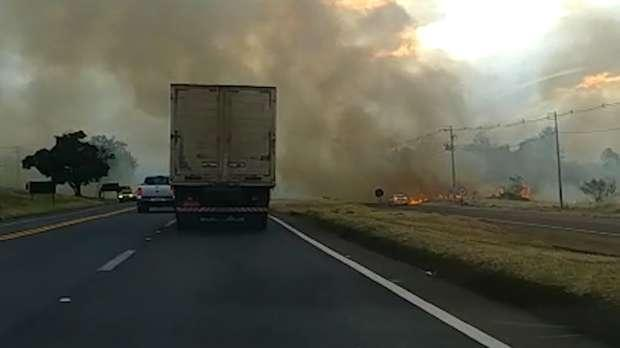smoke: (282, 24, 381, 166), (105, 5, 266, 85)
